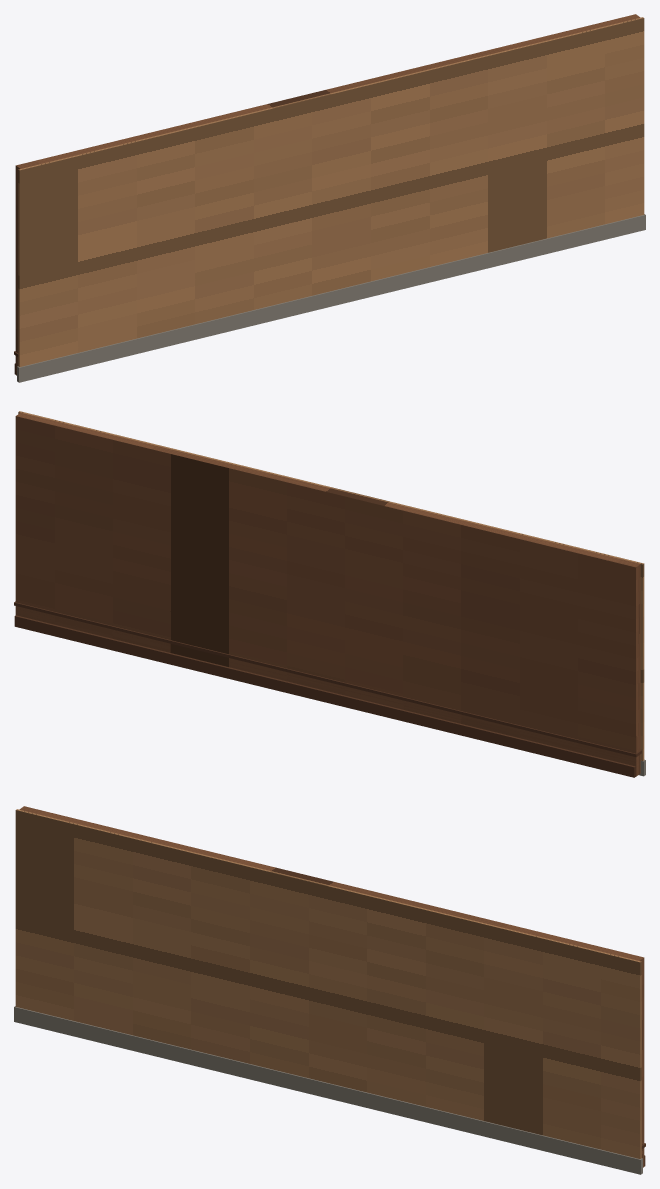
The model's file is back.glb.
3 renders of one model, top to bottom at view 1: azimuth 30°, elevation 25°; view 2: azimuth 150°, elevation 25°; view 3: azimuth 330°, elevation 25°, orthographic.
Visible parts, largest first — view 1: Box3, Box4, Box1; view 2: Box1, Box2, Box5, Box6, Box3; view 3: Box3, Box4, Box1.
Part boxes in pixels (x1,y1,x2,y2): Box3: [18, 17, 644, 366]; Box4: [17, 214, 645, 382]; Box1: [15, 14, 640, 375]; Box1: [15, 412, 640, 776]; Box2: [14, 615, 635, 777]; Box5: [15, 606, 640, 775]; Box6: [14, 601, 641, 757]; Box3: [18, 411, 644, 760]; Box3: [15, 809, 641, 1158]; Box4: [14, 1006, 642, 1174]; Box1: [19, 806, 644, 1167].
Size of the model in its own units: 11.27 by 3.64 by 0.25.
4 materials, 2 textured.
